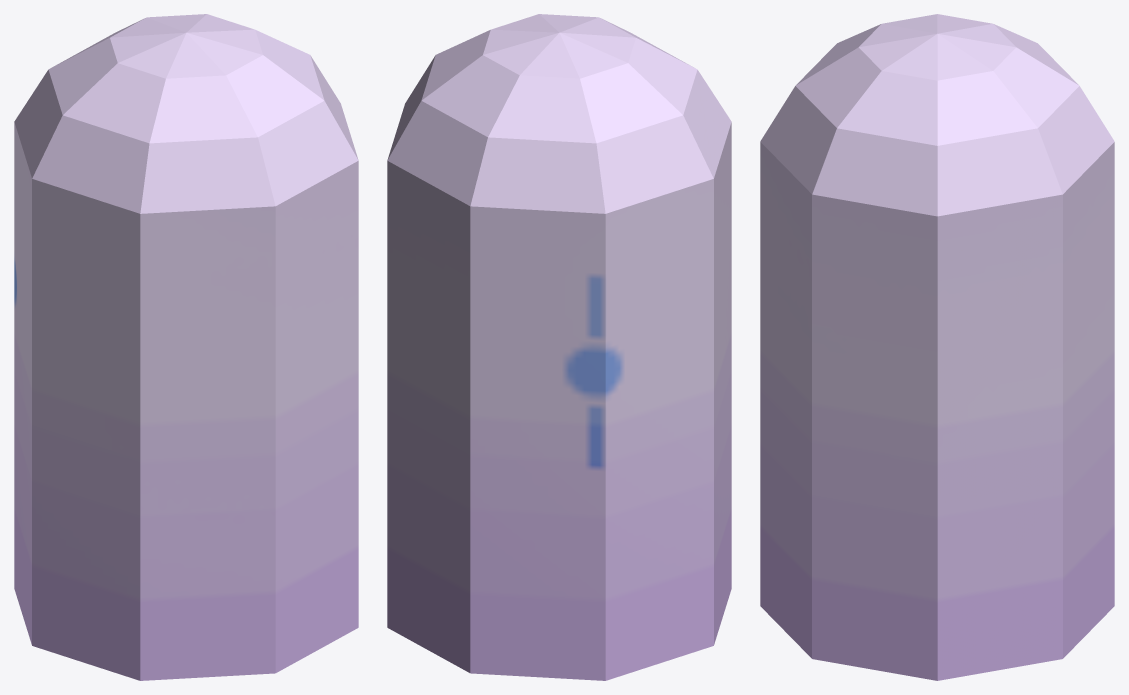
File: wala_building05.fbx
3 views of the same model, side by side, from view 1: azimuth 30°, elevation 25°; view 2: azimuth 150°, elevation 25°; view 3: azimuth 270°, elevation 25° (orthographic).
Visible parts, largest first — view 1: wala_building05; view 2: wala_building05; view 3: wala_building05.
Boxes of the visible parts, <box> form: wala_building05: <box>14,14,358,680</box>; wala_building05: <box>387,14,731,680</box>; wala_building05: <box>760,14,1114,680</box>.
Size of the model in its own units: 1.66 by 2.95 by 1.66.
